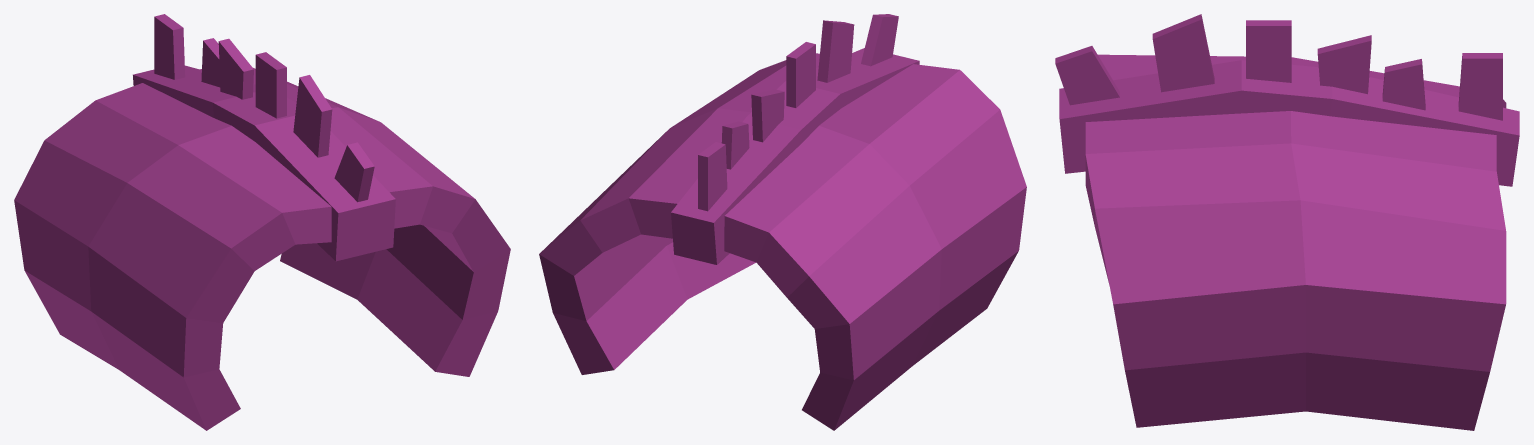
The model's file is SM_Env_Bones_02_Collision.fbx.
3 renders of one model, left to right at view 1: azimuth 30°, elevation 25°; view 2: azimuth 150°, elevation 25°; view 3: azimuth 270°, elevation 25°, orthographic. The views are drawn at different scales.
Visible parts, largest first — view 1: SM_Env_Bones_02_Collision; view 2: SM_Env_Bones_02_Collision; view 3: SM_Env_Bones_02_Collision.
Boxes of the visible parts, box(x1,y1,x2,y2) form: SM_Env_Bones_02_Collision: box(14, 14, 510, 430); SM_Env_Bones_02_Collision: box(539, 14, 1026, 430); SM_Env_Bones_02_Collision: box(1055, 14, 1519, 430).
Size of the model in its own units: 284 by 256 by 315.
